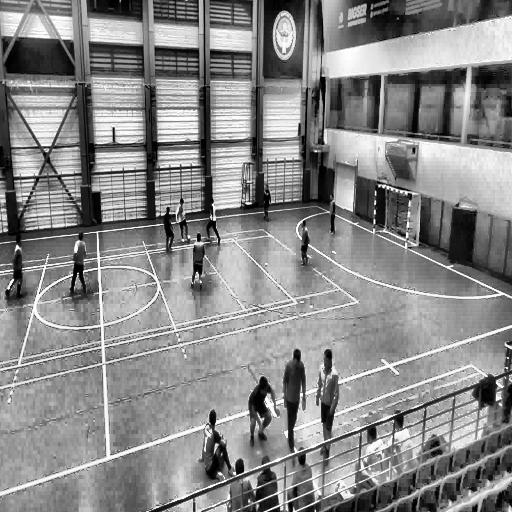ball: (188, 233, 192, 242)
player: (316, 349, 339, 465), (282, 346, 306, 453), (199, 407, 232, 484), (249, 374, 279, 448), (5, 234, 25, 300), (70, 231, 88, 294), (191, 232, 205, 290), (206, 196, 222, 243), (298, 219, 310, 267), (176, 197, 189, 241), (163, 206, 175, 251), (328, 194, 336, 237), (262, 186, 271, 222)
